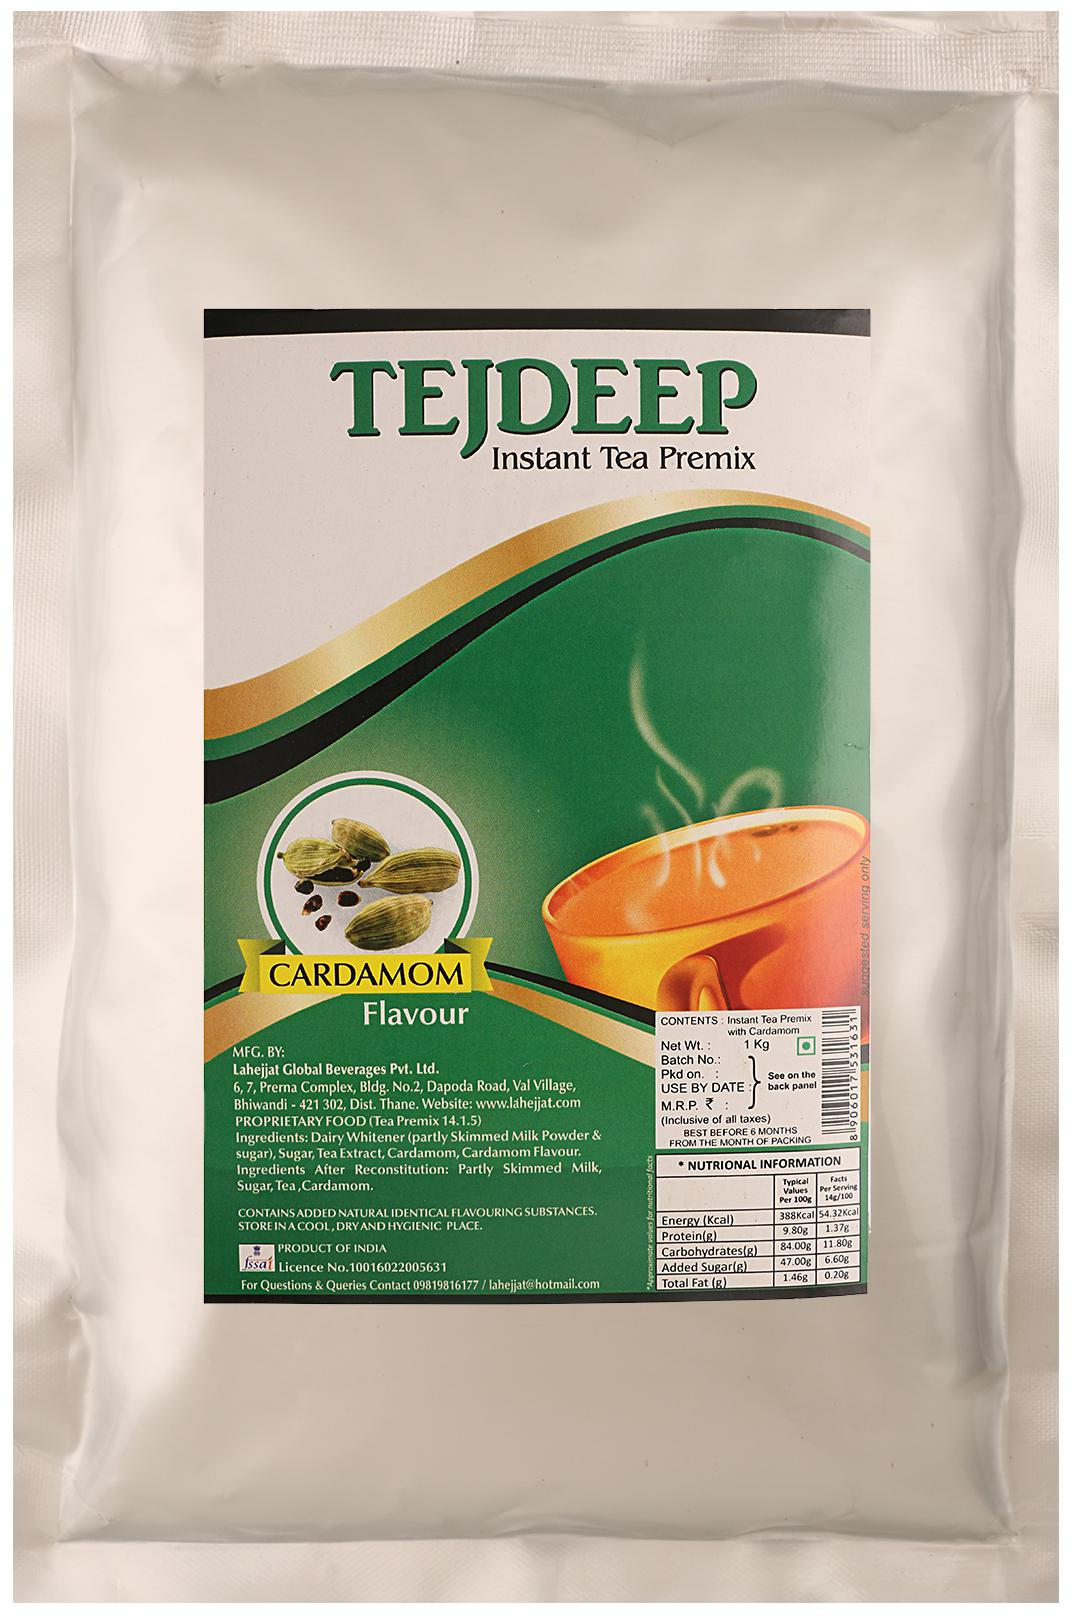fssai: (243, 1256, 273, 1271)
